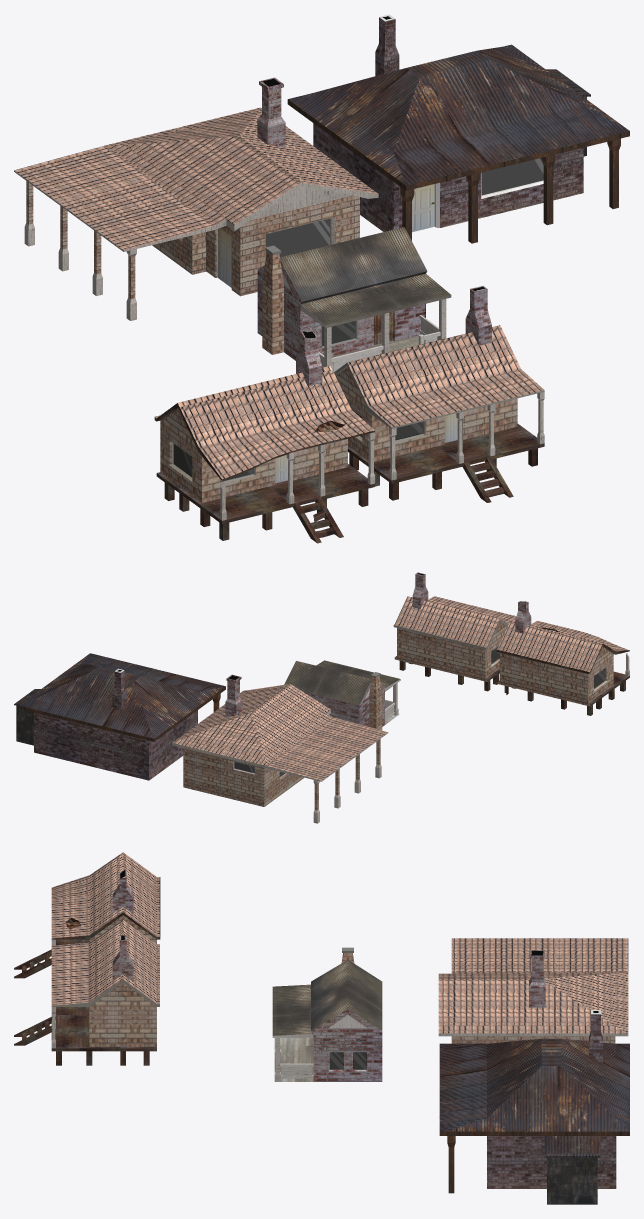
Rendered from Houses_UPDATED.fbx.
3 renders of one model, top to bottom at view 1: azimuth 30°, elevation 25°; view 2: azimuth 150°, elevation 25°; view 3: azimuth 270°, elevation 25°, orthographic. The views are drawn at different scales.
Parts seen in each view (by area): view 1: House_Type_4, House_Type_3, Deformed_House_Type_1, House_Type_1, House_Type_2; view 2: House_Type_4, House_Type_3, Deformed_House_Type_1, House_Type_1, House_Type_2; view 3: House_Type_4, House_Type_3, House_Type_1, House_Type_2, Deformed_House_Type_1.
Boxes of the visible parts, box(x1,y1,x2,y2) form: House_Type_4: box(287, 14, 629, 243); House_Type_3: box(14, 77, 378, 320); Deformed_House_Type_1: box(154, 330, 374, 543); House_Type_1: box(334, 286, 544, 502); House_Type_2: box(257, 227, 451, 371); House_Type_4: box(14, 653, 225, 780); House_Type_3: box(172, 674, 388, 823); Deformed_House_Type_1: box(496, 601, 629, 715); House_Type_1: box(393, 572, 516, 691); House_Type_2: box(284, 660, 400, 730); House_Type_4: box(439, 1010, 629, 1204); House_Type_3: box(438, 938, 628, 1043); House_Type_1: box(14, 920, 159, 1065); House_Type_2: box(272, 947, 382, 1081); Deformed_House_Type_1: box(14, 852, 160, 978).
Size of the model in its own units: 463 by 103 by 455.
